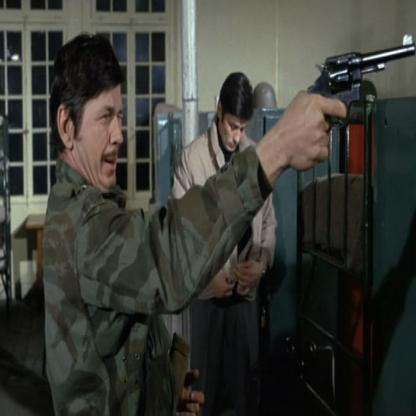gun: (308, 17, 416, 107)
